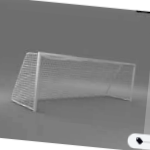goals: (10, 50, 139, 117)
